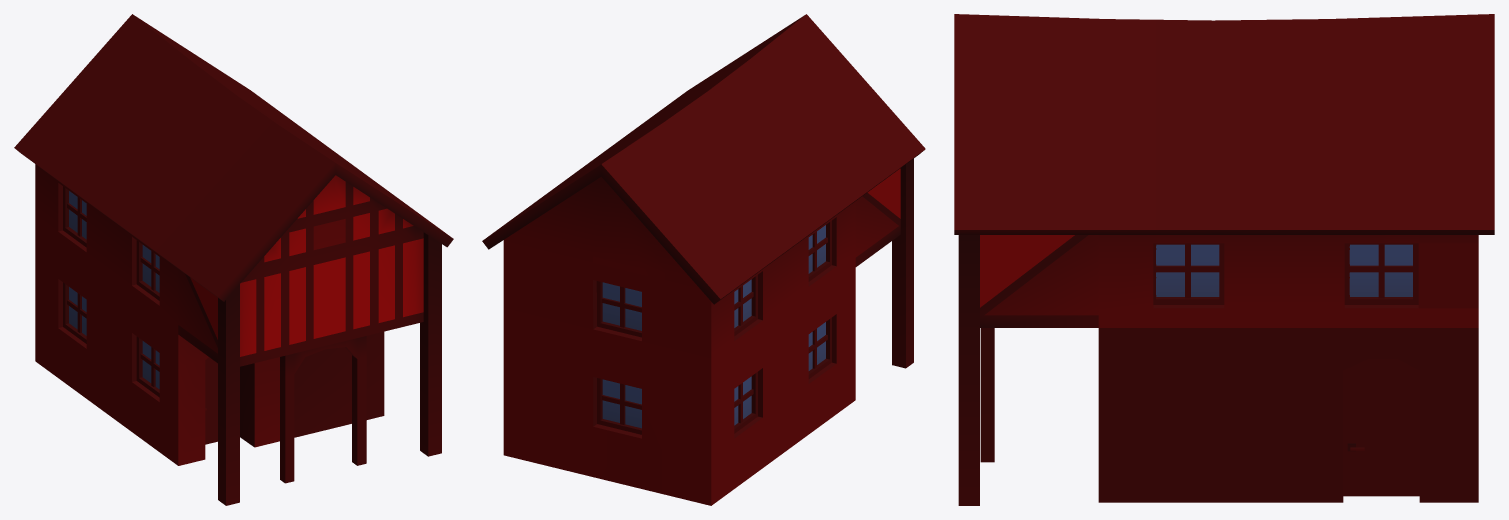
The model's file is buildings-historical-medievalcottage_v2.fbx.
3 views of the same model, side by side, from view 1: azimuth 30°, elevation 25°; view 2: azimuth 150°, elevation 25°; view 3: azimuth 270°, elevation 25° (orthographic). The views are drawn at different scales.
Visible parts, largest first — view 1: MedievalCottage_v2_base, MedievalCottage_v2_windowRefl; view 2: MedievalCottage_v2_base, MedievalCottage_v2_windowRefl; view 3: MedievalCottage_v2_base, MedievalCottage_v2_windowRefl.
Boxes of the visible parts, x1,y1,x2,y2 form: MedievalCottage_v2_base: [14, 14, 453, 505]; MedievalCottage_v2_windowRefl: [69, 191, 159, 389]; MedievalCottage_v2_base: [482, 14, 925, 505]; MedievalCottage_v2_windowRefl: [602, 225, 825, 428]; MedievalCottage_v2_base: [954, 14, 1494, 505]; MedievalCottage_v2_windowRefl: [1156, 244, 1412, 296].
Size of the model in its own units: 7.2 by 9.25 by 10.72.
